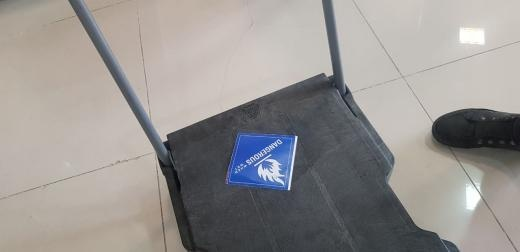Dangerous when wet: (225, 133, 298, 191)
